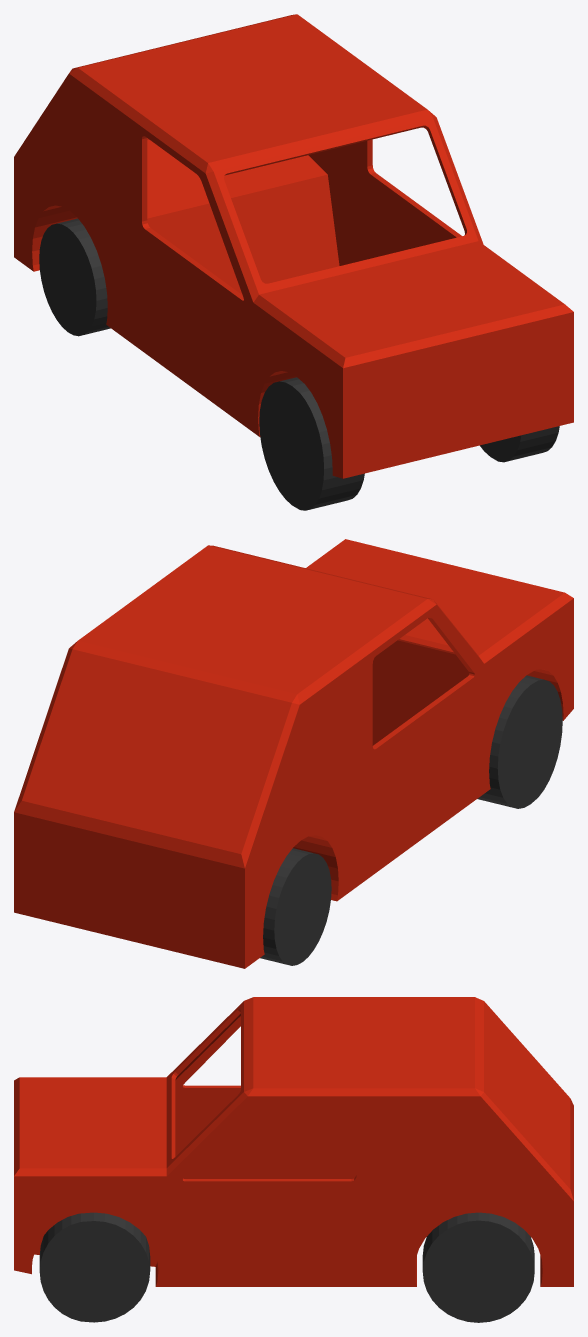
Rendered from tony.glb.
3 renders of one model, top to bottom at view 1: azimuth 30°, elevation 25°; view 2: azimuth 150°, elevation 25°; view 3: azimuth 270°, elevation 25°, orthographic. The views are drawn at different scales.
Visible parts, largest first — view 1: Cube, Cylinder.002, Cylinder.003, Cylinder; view 2: Cube, Cylinder.002, Cylinder.003; view 3: Cube, Cylinder.001, Cylinder.
Boxes of the visible parts, <box> form: Cube: <box>14,14,573,478</box>; Cylinder.002: <box>259,377,364,510</box>; Cylinder.003: <box>39,218,110,336</box>; Cylinder: <box>480,426,559,462</box>; Cube: <box>14,539,573,968</box>; Cylinder.002: <box>477,675,562,808</box>; Cylinder.003: <box>260,848,331,965</box>; Cube: <box>14,997,573,1286</box>; Cylinder.001: <box>422,1212,534,1322</box>; Cylinder: <box>39,1212,150,1322</box>.
Size of the model in its own units: 0.8311 by 0.9121 by 2.
